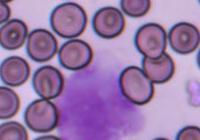D: (54, 63, 145, 140)
